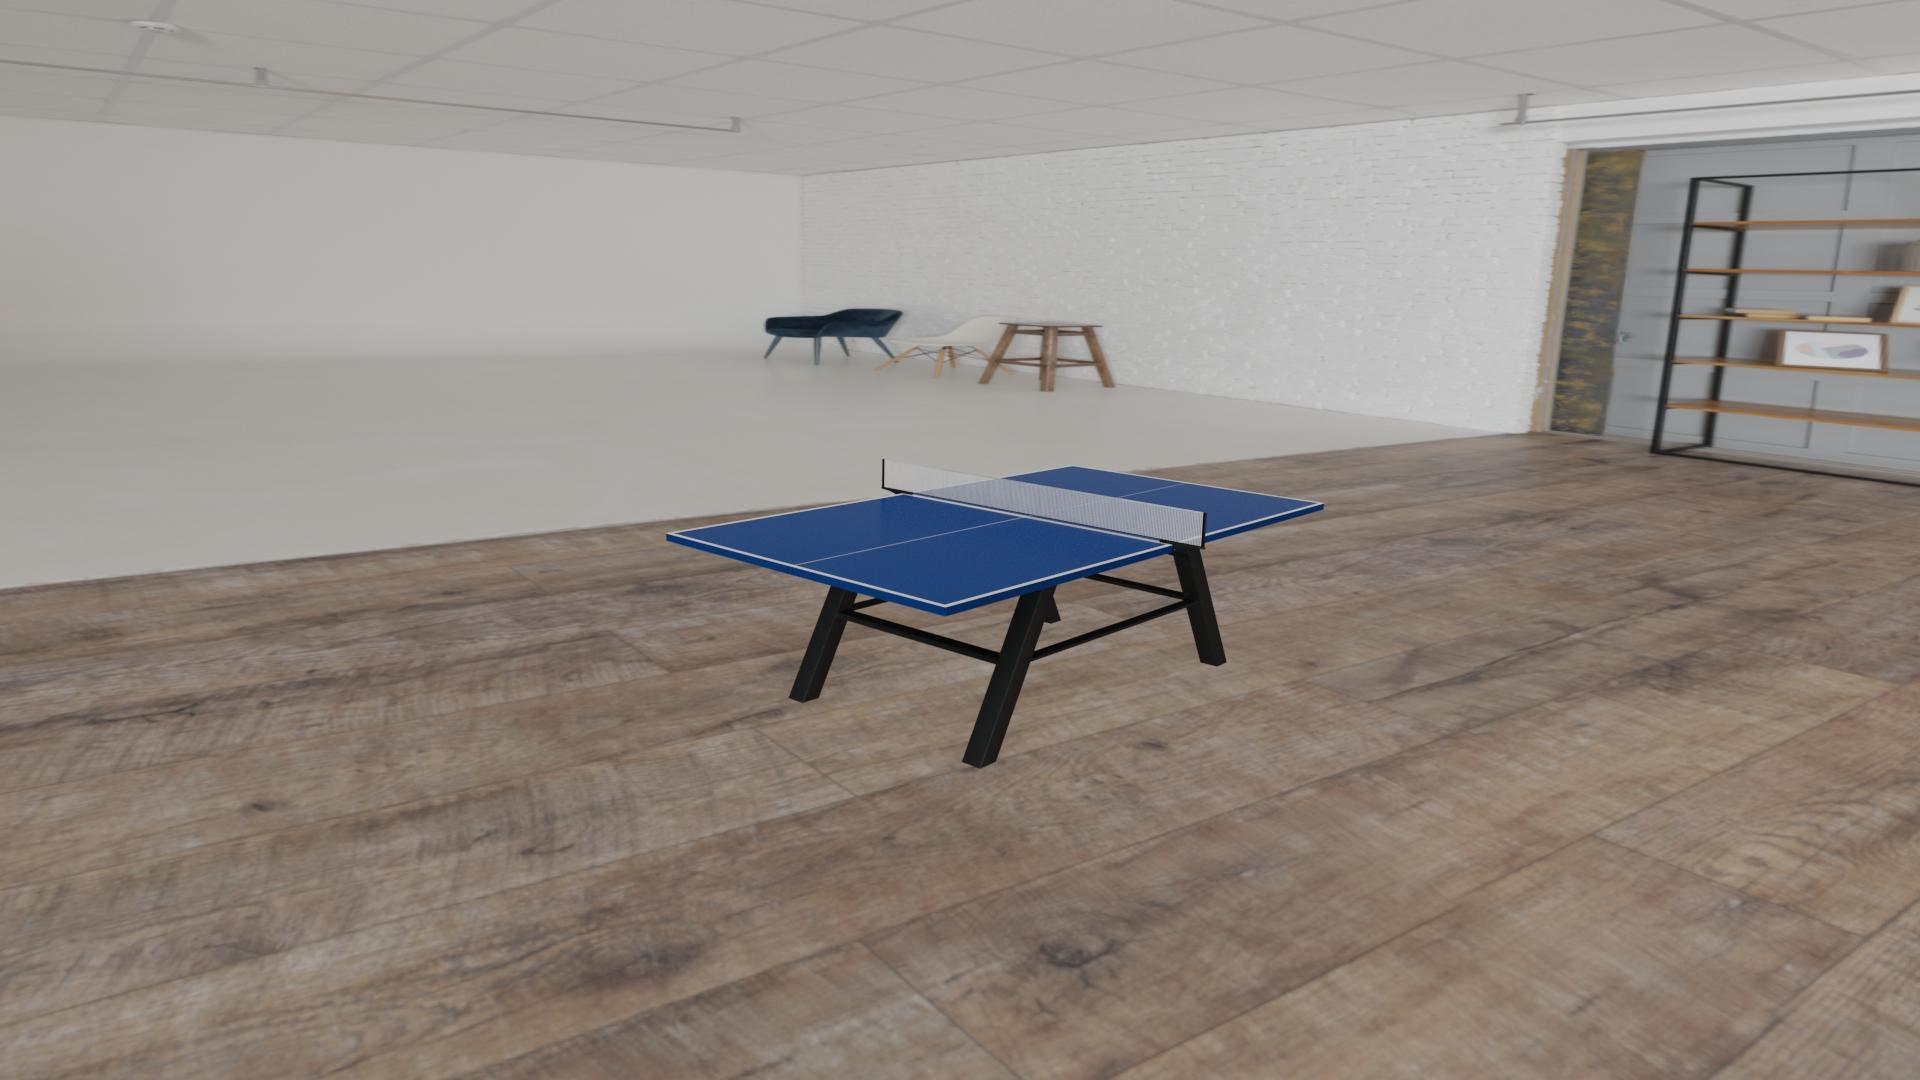table: (673, 465, 1319, 605)
